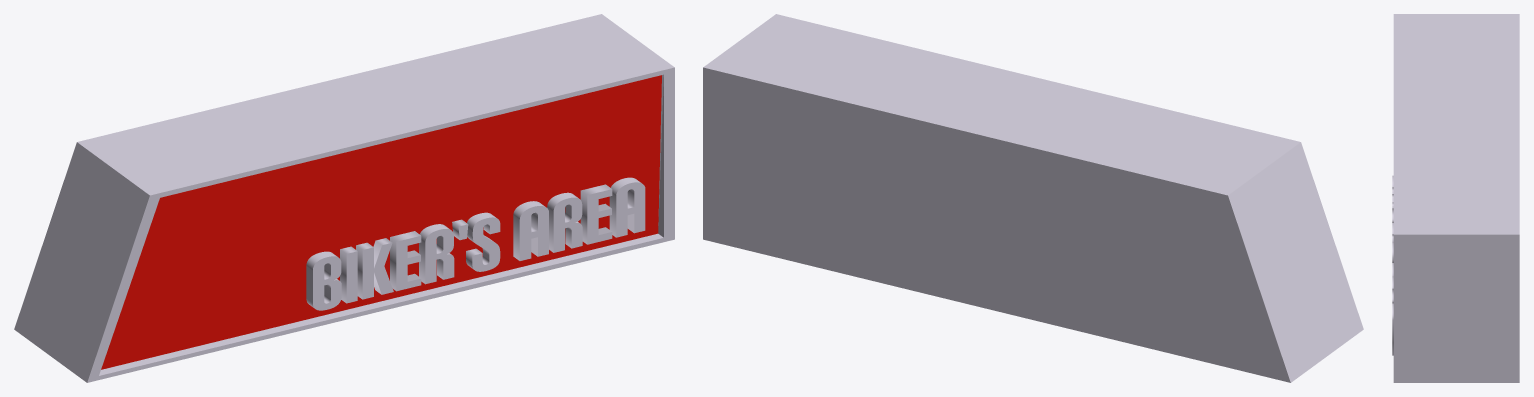
Rendered from Tresen.fbx.
3 views of the same model, side by side, from view 1: azimuth 30°, elevation 25°; view 2: azimuth 150°, elevation 25°; view 3: azimuth 270°, elevation 25° (orthographic). The views are drawn at different scales.
Parts seen in each view (by area): view 1: Cube, Logo; view 2: Cube; view 3: Cube, Logo.
Part boxes in pixels (x1,y1,x2,y2): Cube: [14, 14, 674, 382]; Logo: [306, 177, 645, 310]; Cube: [703, 14, 1363, 382]; Cube: [1393, 14, 1519, 382]; Logo: [1392, 175, 1393, 355].
Size of the model in its own units: 279 by 78 by 60.64.
